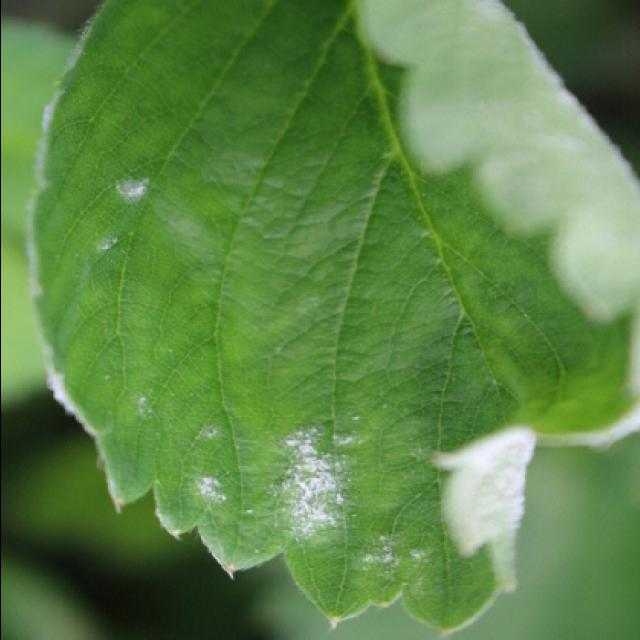Powdery Mildew Leaf: (24, 2, 640, 634)
